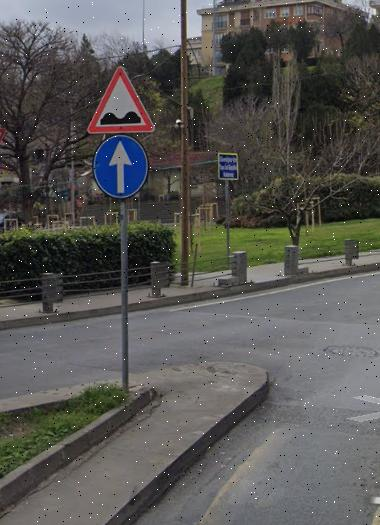forward: (93, 137, 150, 197)
